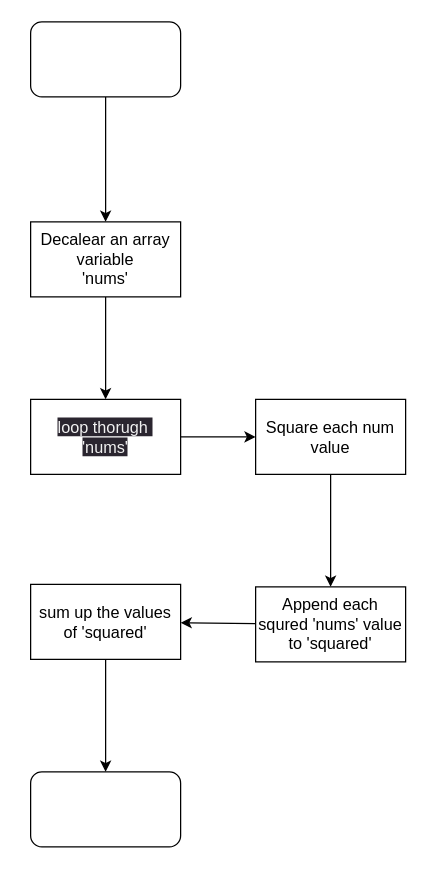
Some shapes in this 428 by 869 pixel diagram are drawn without their labels. The centre of each missing label's shape, as x and y in pixels:
"Declear an empty array variable 'squared'" belongs at [105,59].
"print the sum of squared" belongs at [105,809].
